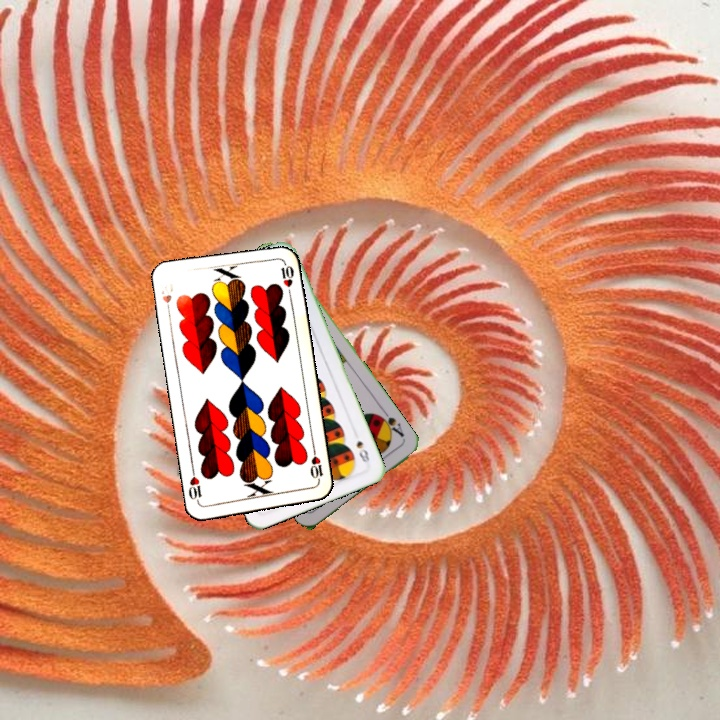H10: (306, 445, 326, 486), (157, 281, 174, 317)
S8: (352, 436, 372, 465)
SA: (375, 407, 407, 440)
